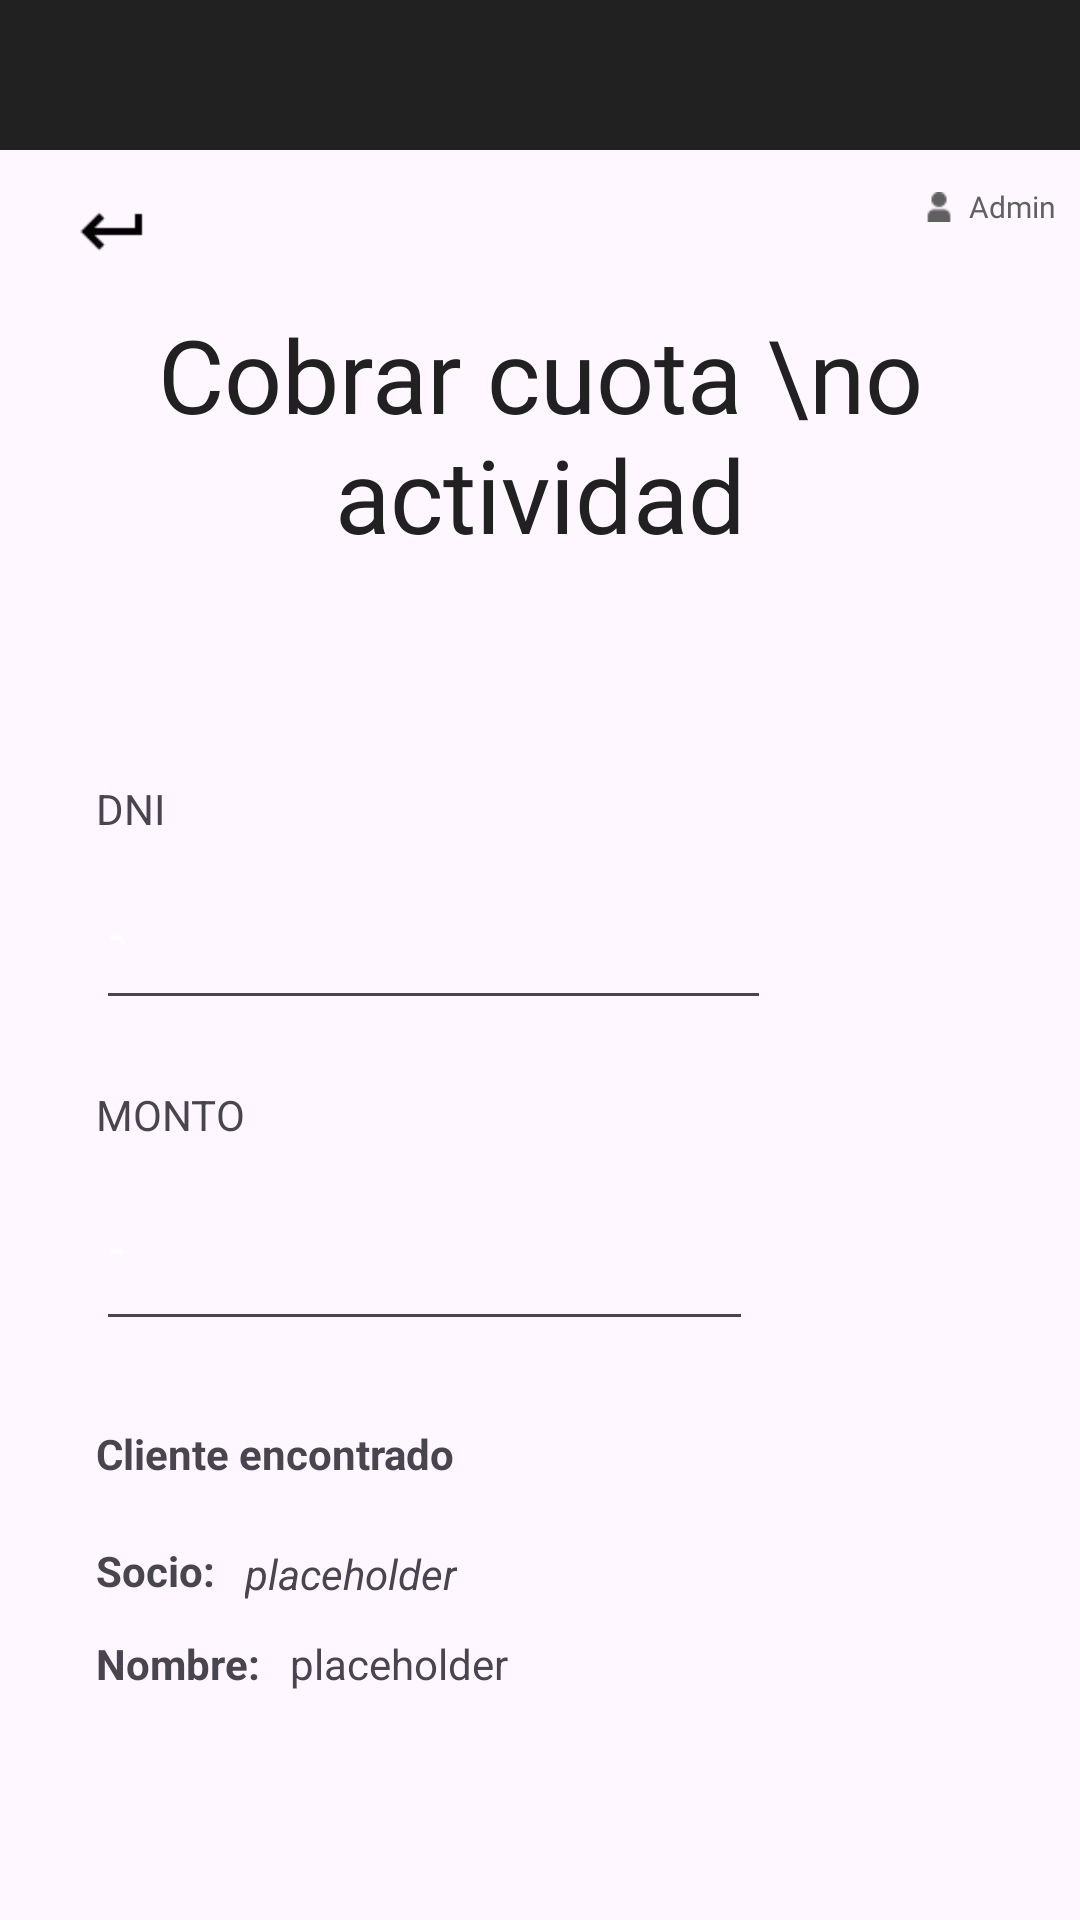

Named icons in this screenshot (1080px x 1920px) and their centers, [x,y]:
volver: [111,231]
